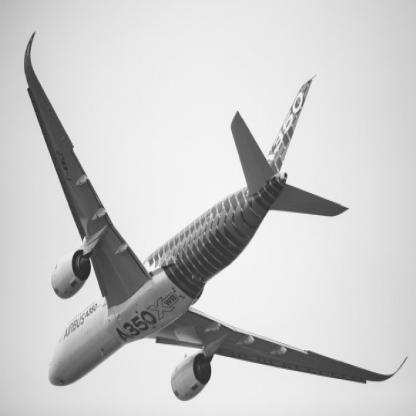CIV_Plane: (16, 21, 408, 402)
